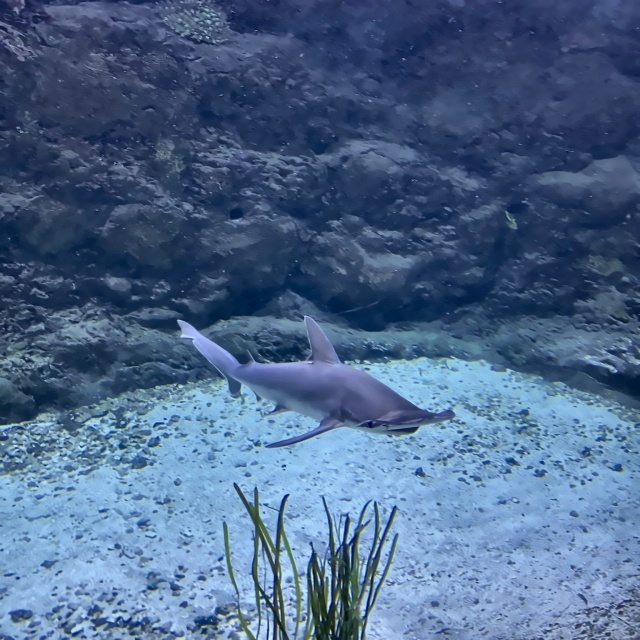shark: (178, 315, 455, 448)
